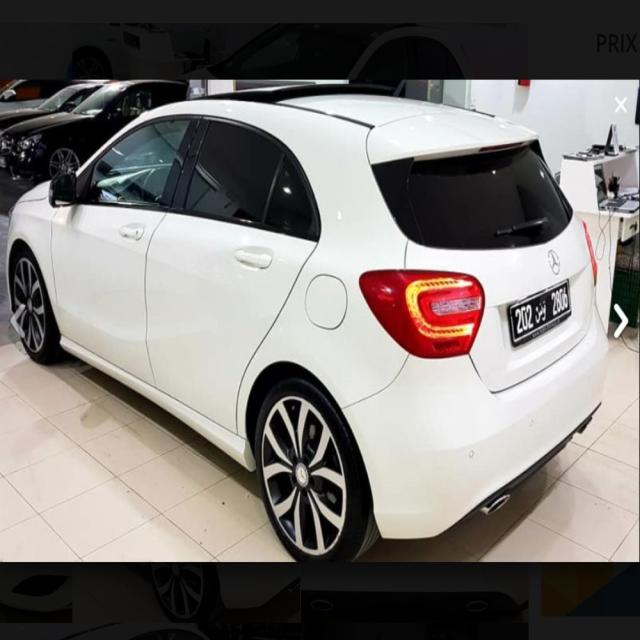LP: (506, 278, 574, 343)
